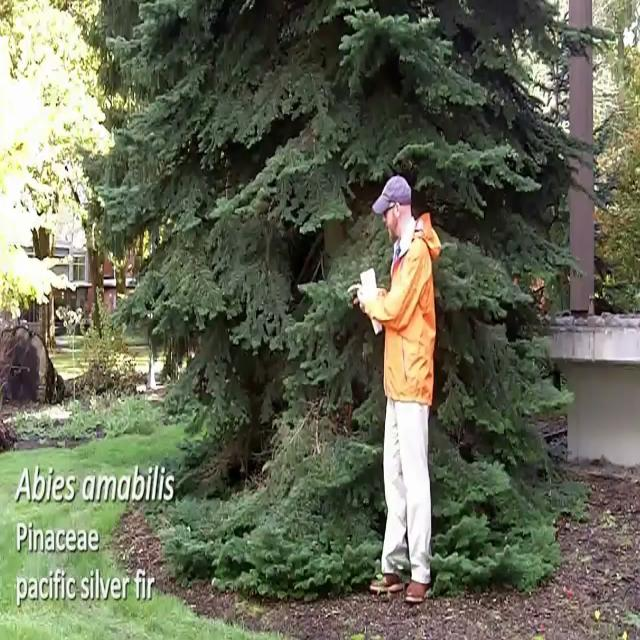Abies: (71, 0, 630, 600)
